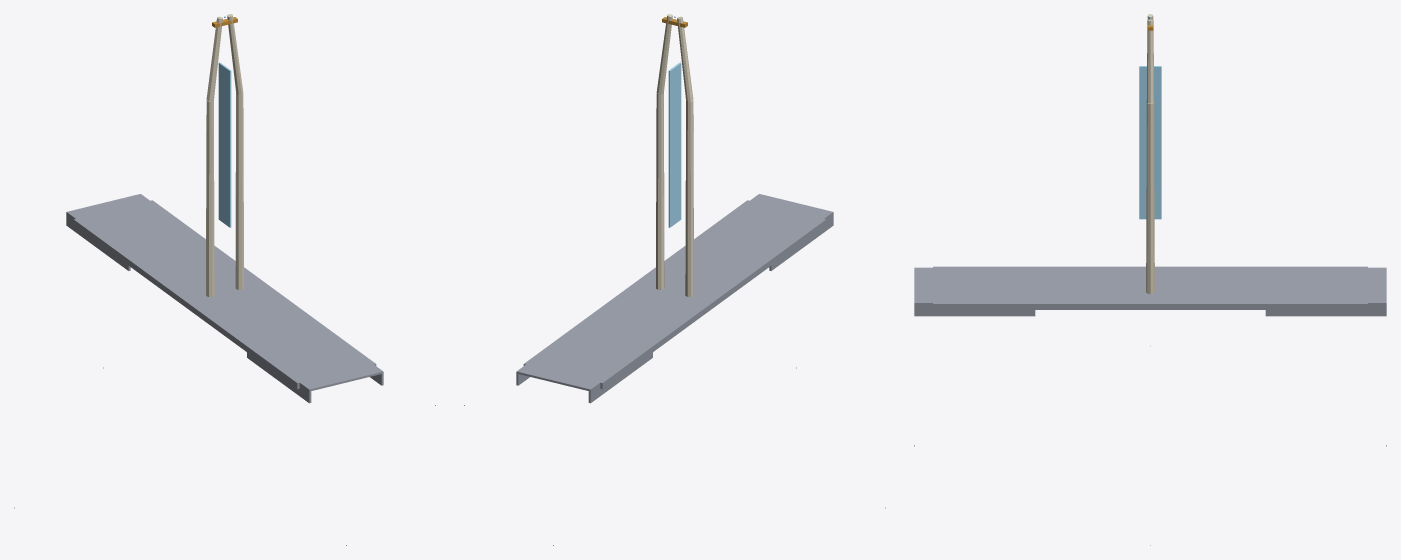
Rendered from chunk_es_path_arcway.fbx.
The picture shows the model from 3 angles, left to right: view 1: azimuth 30°, elevation 25°; view 2: azimuth 150°, elevation 25°; view 3: azimuth 270°, elevation 25°; orthographic projection. The views are drawn at different scales.
Parts seen in each view (by area): view 1: ES_PATH_ARCWAY; view 2: ES_PATH_ARCWAY; view 3: ES_PATH_ARCWAY.
Boxes of the visible parts, x1=… form: ES_PATH_ARCWAY: x1=14, y1=14, x2=435, y2=545; ES_PATH_ARCWAY: x1=464, y1=14, x2=885, y2=545; ES_PATH_ARCWAY: x1=914, y1=14, x2=1386, y2=545.
Size of the model in its own units: 256 by 256 by 256.
